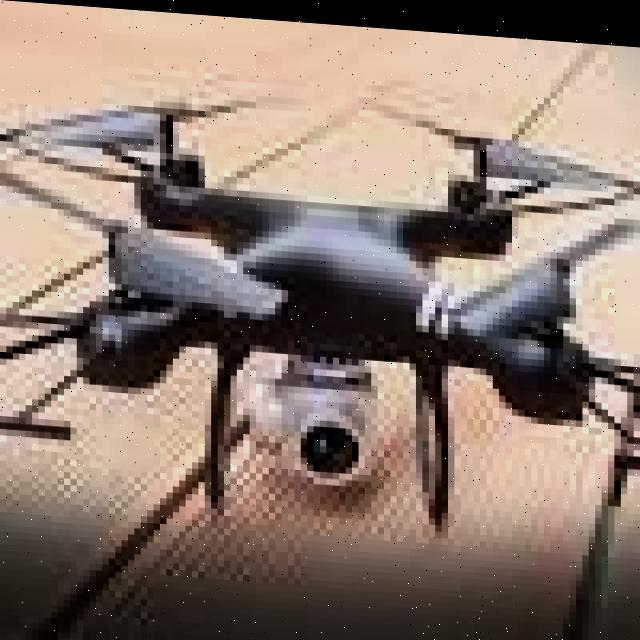drone: (0, 64, 640, 565)
